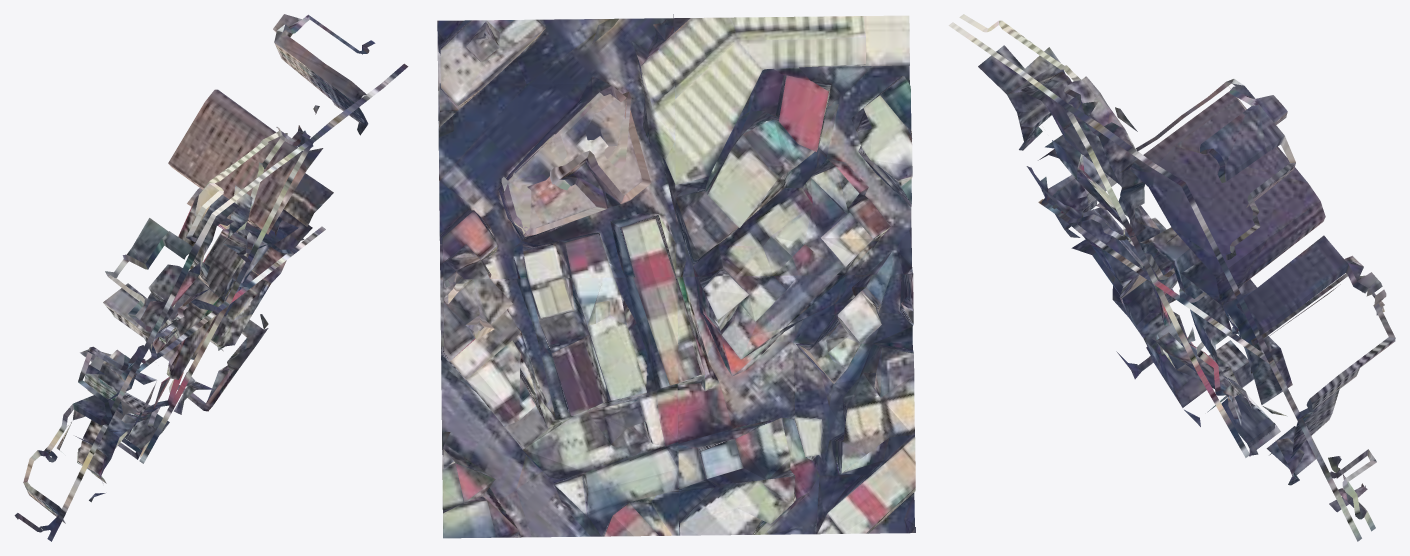
3 views of the same model, side by side, from view 1: azimuth 30°, elevation 25°; view 2: azimuth 150°, elevation 25°; view 3: azimuth 270°, elevation 25° (orthographic). The views are drawn at different scales.
Size of the model in its own units: 159 by 155 by 139.
Materials: 1 (1 with a texture image).
